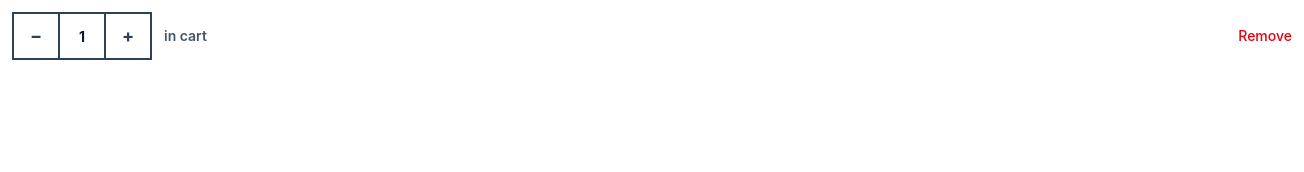
Test: AddToCartButton › removing the last item re-shows the Add to Cart button
Check: the text "in cart" is shown, box left=164, top=26, right=207, bottom=46
Click the button "Remove" at point(1265, 36), box left=1238, top=26, right=1292, bottom=46
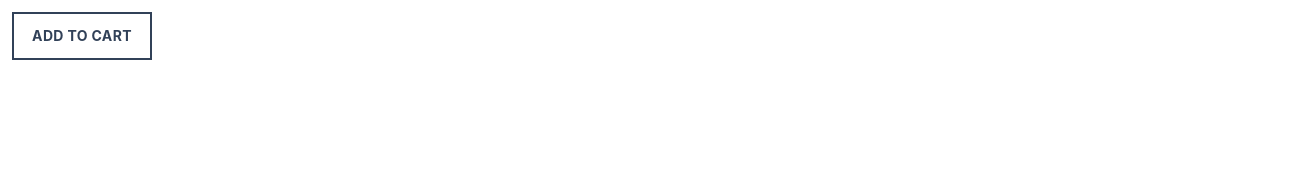
Check: the button "Add to Cart" is shown, box left=12, top=12, right=152, bottom=60
